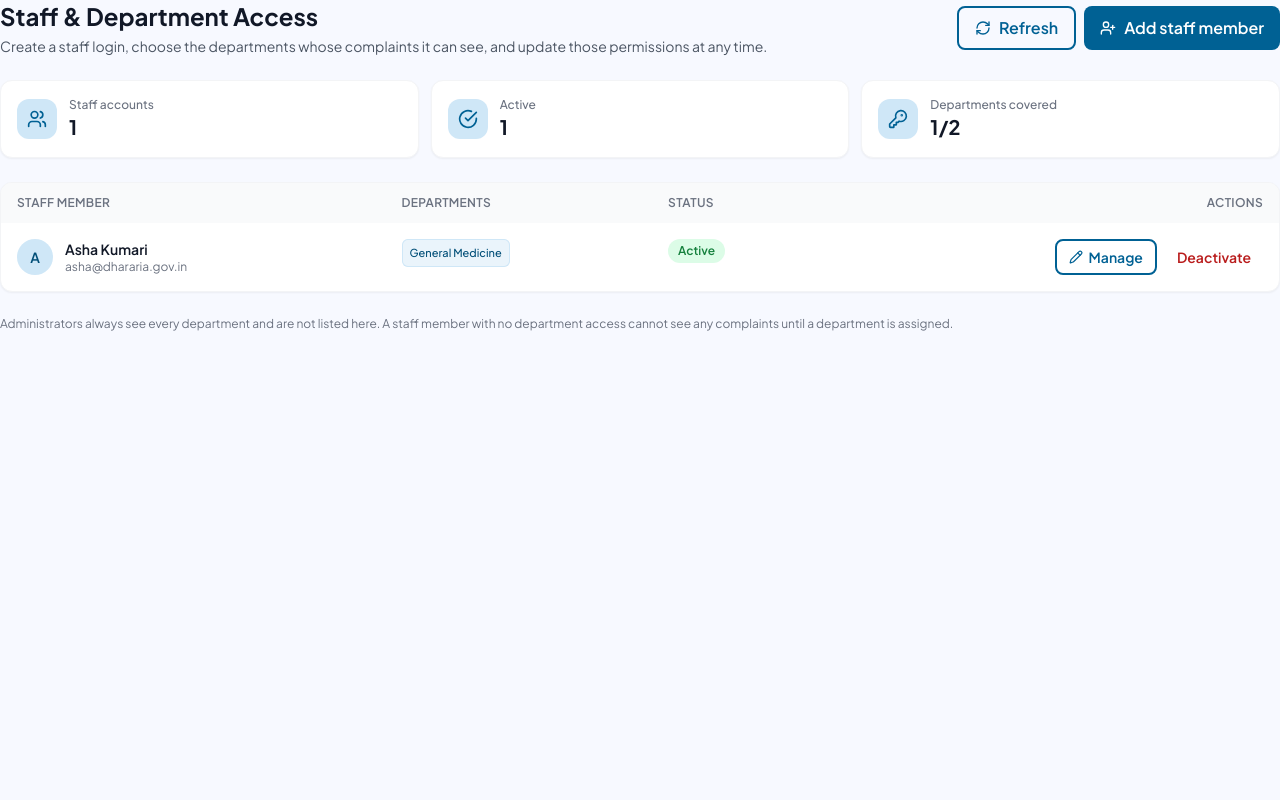
Scenario: StaffAccessPanel › pre-selects the current departments when editing
The width and height of the screenshot is (1280, 800).
Click the button "Manage" at (1106,257), box [1055,239,1157,275]
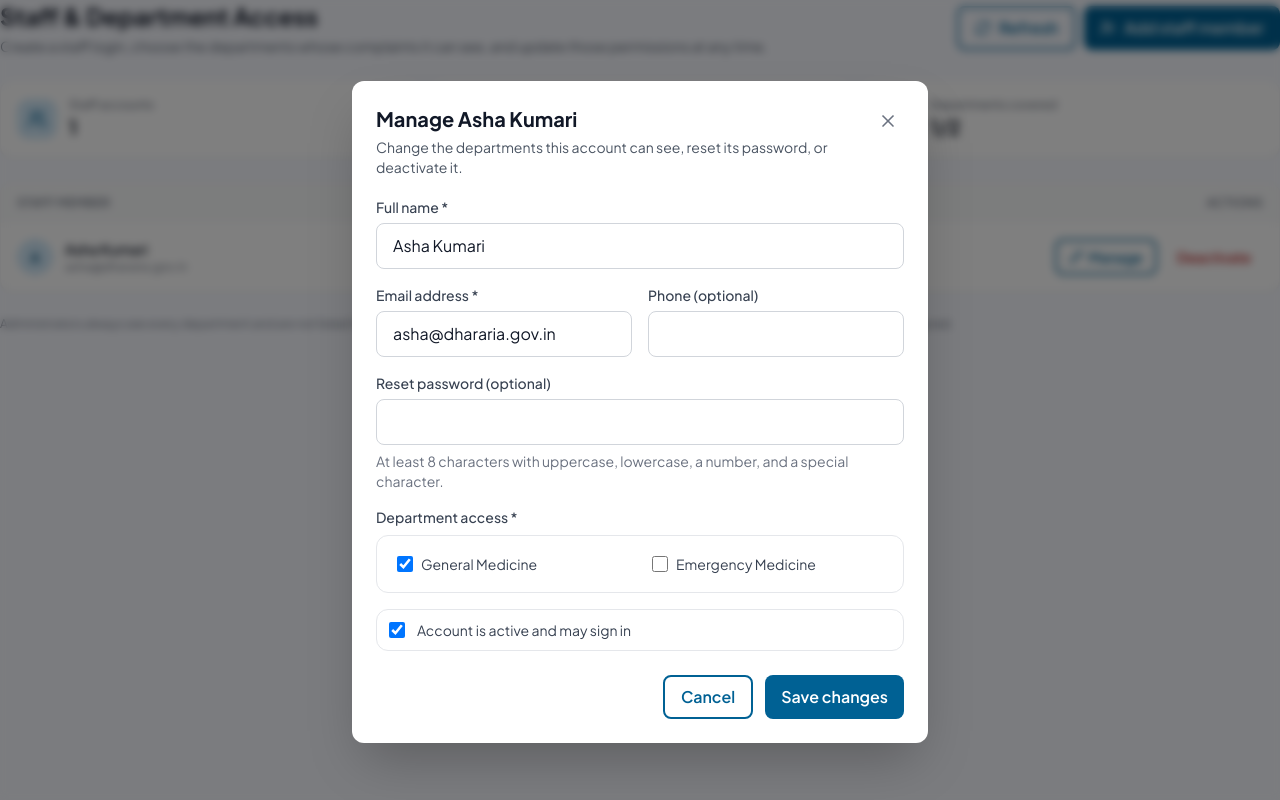
Result: the checkbox labelled "General Medicine" is checked at [397,556,413,572]
Result: the checkbox labelled "Emergency Medicine" is not checked at [652,556,668,572]
Result: the dialog "Manage Asha Kumari" shows "Reset password (optional)" at [376,374,551,392]
